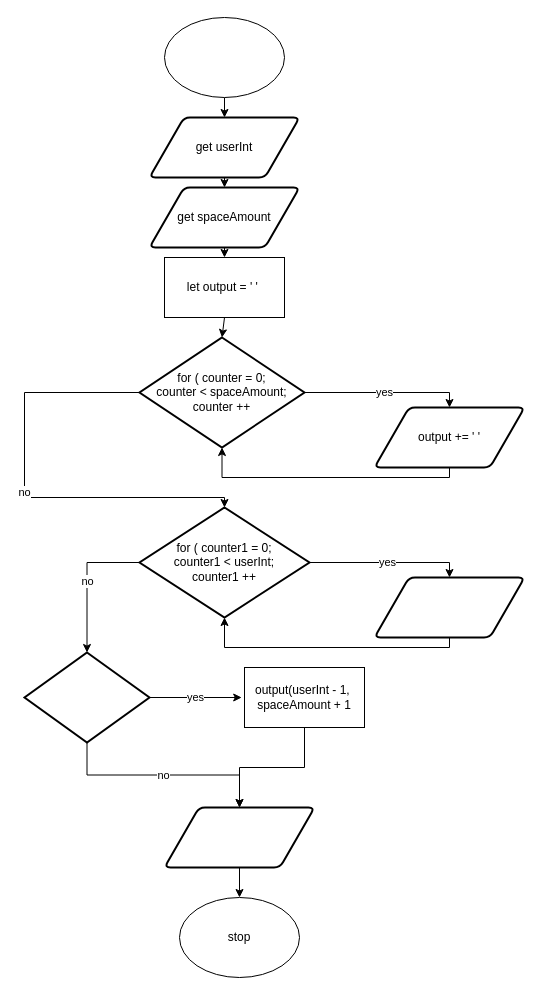
This 543x995 diagram has some shape labels left out. The shapes that lost their labels are listed below. From the top down, each one's centre as x and y in pixels, then its label:
At point (224, 57): "start".
At point (449, 607): "output += '* '".
At point (86, 697): "if userInt > 1".
At point (239, 837): "show output".
